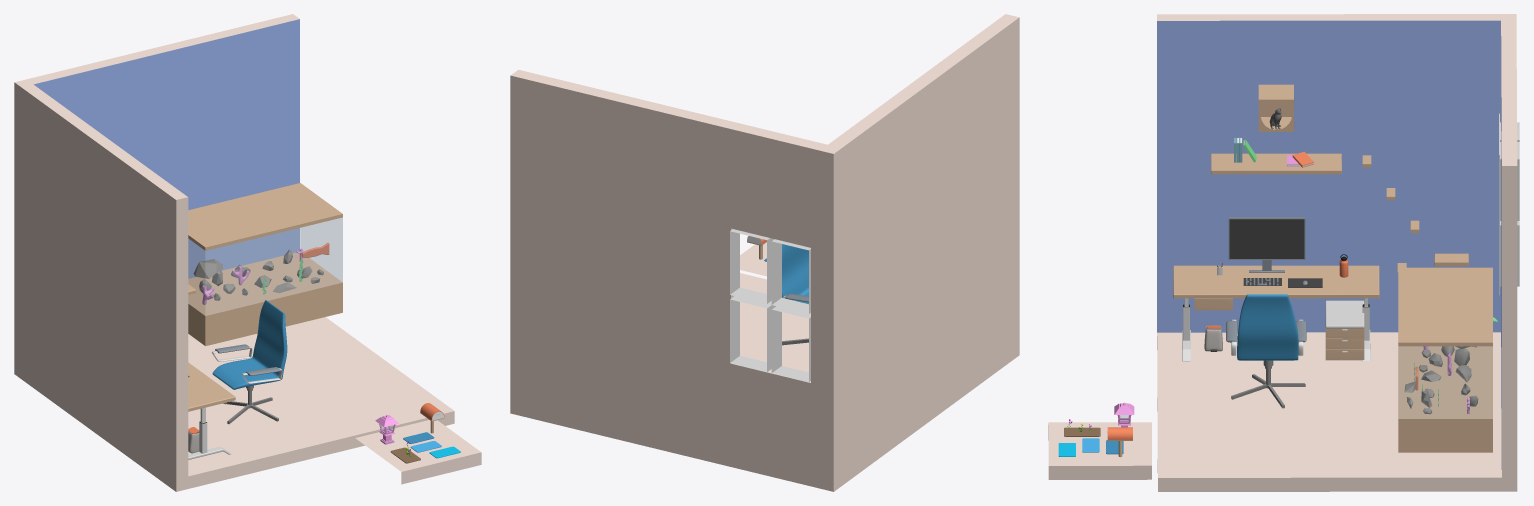
File: Room-draco.glb
The picture shows the model from 3 angles, left to right: view 1: azimuth 30°, elevation 25°; view 2: azimuth 150°, elevation 25°; view 3: azimuth 270°, elevation 25°; orthographic projection. The views are drawn at different scales.
Visible parts, largest first — view 1: backbup, Cube.051, Cube.052, backbup.002, Plane.001, Table, Circle; view 2: backbup, Plane, Plane.001, backbup.002; view 3: backbup, Cube.051, Cube.052, Table, backbup.002, Plane.001, Computer.001, Table.004, Cube.044, Drawer.001, Table.001, Plane (+4 smaller).
Boxes of the visible parts, x1=… form: backbup: x1=14, y1=14, x2=454, y2=491; Cube.051: x1=188, y1=183, x2=342, y2=346; Cube.052: x1=188, y1=217, x2=342, y2=315; backbup.002: x1=355, y1=420, x2=481, y2=484; Plane.001: x1=212, y1=300, x2=287, y2=389; Table: x1=188, y1=362, x2=235, y2=411; Circle: x1=223, y1=385, x2=278, y2=424; backbup: x1=510, y1=14, x2=1019, y2=491; Plane: x1=730, y1=229, x2=810, y2=382; Plane.001: x1=782, y1=244, x2=808, y2=304; backbup.002: x1=740, y1=242, x2=766, y2=276; backbup: x1=1157, y1=14, x2=1517, y2=491; Cube.051: x1=1398, y1=267, x2=1492, y2=452; Cube.052: x1=1398, y1=346, x2=1492, y2=418; Table: x1=1173, y1=265, x2=1379, y2=298; backbup.002: x1=1048, y1=422, x2=1151, y2=479; Plane.001: x1=1237, y1=294, x2=1298, y2=360; Computer.001: x1=1229, y1=219, x2=1304, y2=258; Table.004: x1=1211, y1=153, x2=1341, y2=174; Cube.044: x1=1258, y1=84, x2=1293, y2=131; Drawer.001: x1=1325, y1=328, x2=1364, y2=360; Table.001: x1=1325, y1=300, x2=1364, y2=328; Plane: x1=1499, y1=113, x2=1519, y2=295.
Size of the model in its own units: 4.19 by 4.18 by 5.47.
